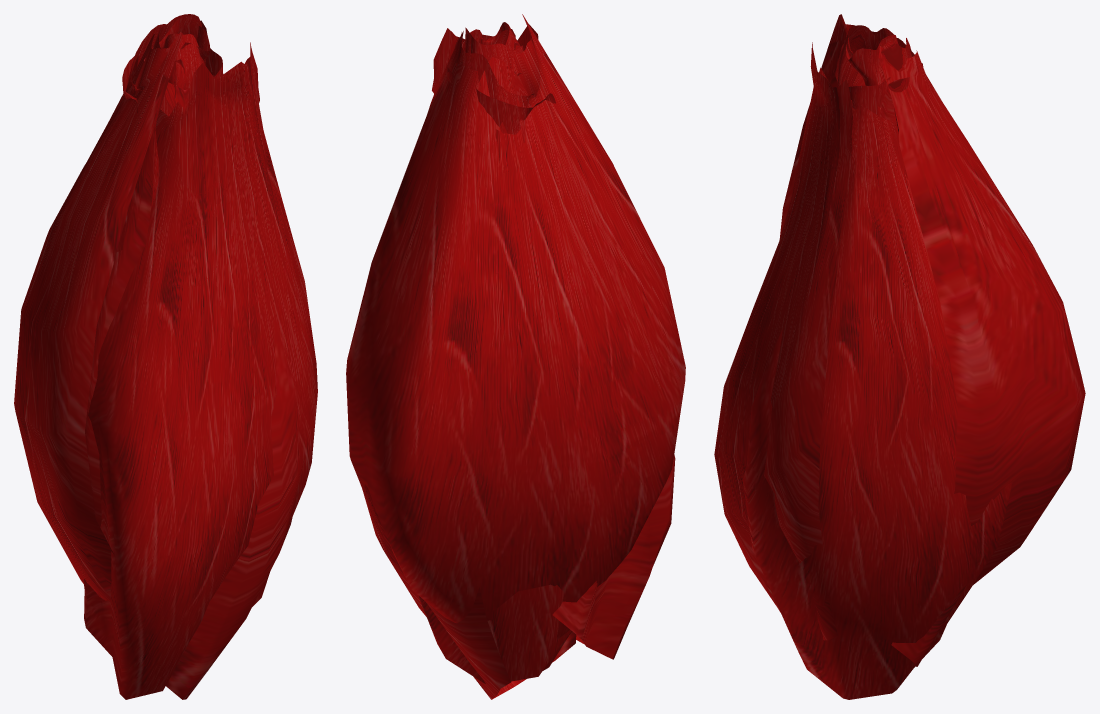
Rendered from Meigui-源.FBX.
The picture shows the model from 3 angles, left to right: view 1: azimuth 30°, elevation 25°; view 2: azimuth 150°, elevation 25°; view 3: azimuth 270°, elevation 25°; orthographic projection.
Parts seen in each view (by area): view 1: 对象022, 对象021, 对象024, 对象023, 对象028, 对象029, 对象030; view 2: 对象021, 对象022, 对象023, 对象024, 对象025, 对象029; view 3: 对象024, 对象021, 对象022, 对象023, 对象028, 对象030, 对象027, 对象025.
Part boxes in pixels (x1,y1,x2,y2): 对象022: [83, 42, 317, 699]; 对象021: [14, 20, 207, 601]; 对象024: [115, 82, 304, 699]; 对象023: [85, 24, 213, 526]; 对象028: [163, 33, 204, 98]; 对象029: [153, 14, 201, 89]; 对象030: [136, 18, 209, 77]; 对象021: [346, 14, 685, 670]; 对象022: [432, 24, 675, 659]; 对象023: [419, 32, 571, 683]; 对象024: [362, 129, 576, 699]; 对象025: [447, 63, 555, 134]; 对象029: [464, 27, 523, 67]; 对象024: [743, 66, 1012, 699]; 对象021: [779, 14, 1085, 584]; 对象022: [714, 42, 852, 640]; 对象023: [878, 38, 966, 666]; 对象028: [835, 25, 879, 87]; 对象030: [846, 32, 894, 85]; 对象027: [842, 72, 890, 115]; 对象025: [879, 63, 923, 120].
Size of the model in its own units: 13.02 by 31.23 by 15.41.
1 material, 1 textured.
